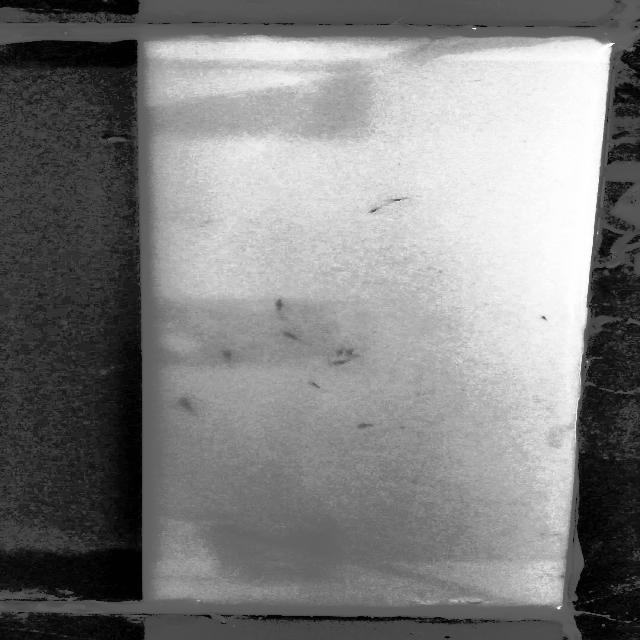shrimp: (353, 205, 402, 219), (386, 190, 428, 204), (174, 399, 203, 413), (263, 294, 285, 309), (279, 332, 307, 343), (220, 348, 241, 362), (305, 380, 327, 391), (329, 346, 352, 356), (353, 421, 378, 430), (534, 312, 553, 323), (329, 358, 353, 366), (345, 348, 362, 358)
